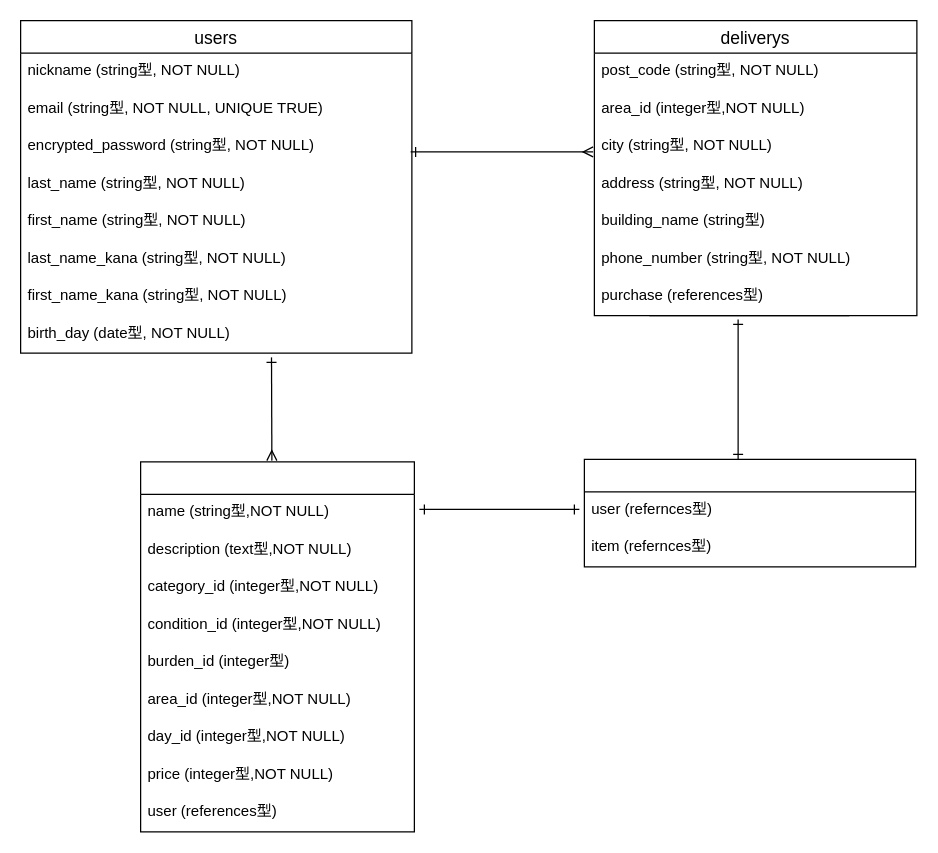
The diagram is 938 pixels wide and 853 high, and some of its shapes have lost their labels. Here are the shapes that lost their labels. From the top down, the box of each, then its label:
(583, 458, 916, 567): purchase
(139, 461, 414, 832): items
